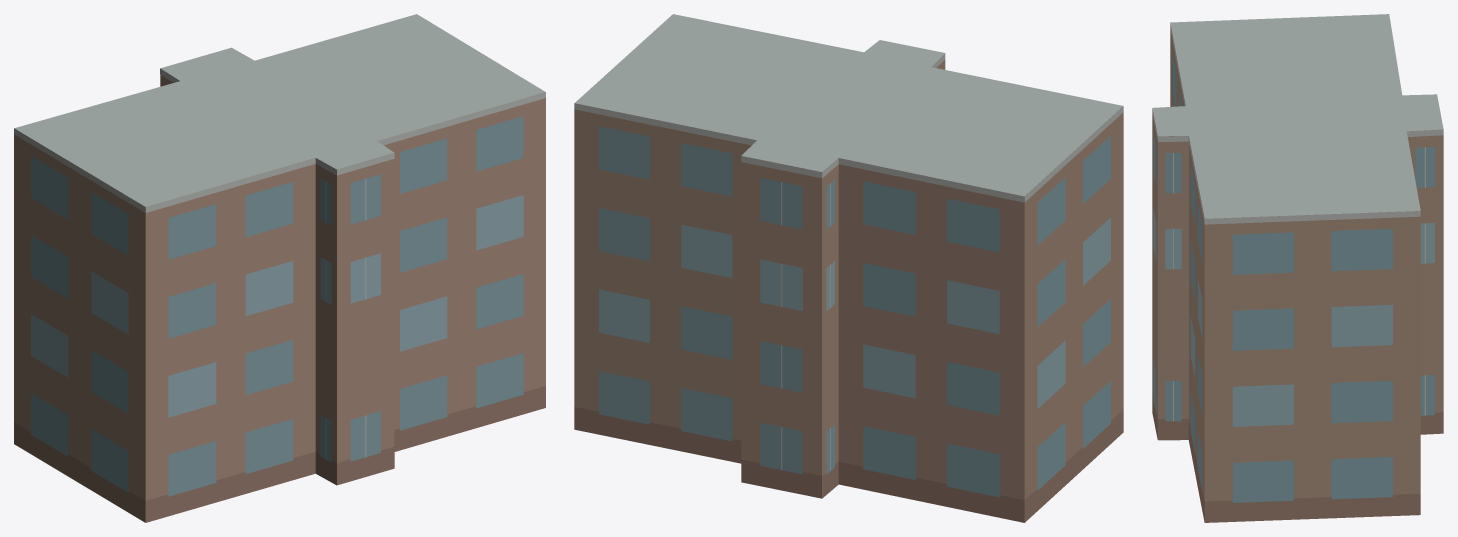
File: survey-upis-32757092.glb
3 renders of one model, left to right at view 1: azimuth 30°, elevation 25°; view 2: azimuth 150°, elevation 25°; view 3: azimuth 270°, elevation 25°, orthographic. The views are drawn at different scales.
Parts seen in each view (by area): view 1: survey-upis-32757092.tmp; view 2: survey-upis-32757092.tmp; view 3: survey-upis-32757092.tmp.
Part boxes in pixels (<box>): survey-upis-32757092.tmp: <box>14,14,545,522</box>; survey-upis-32757092.tmp: <box>574,14,1123,522</box>; survey-upis-32757092.tmp: <box>1152,14,1443,522</box>.
Size of the model in its own units: 18.5 by 12.8 by 11.13.
